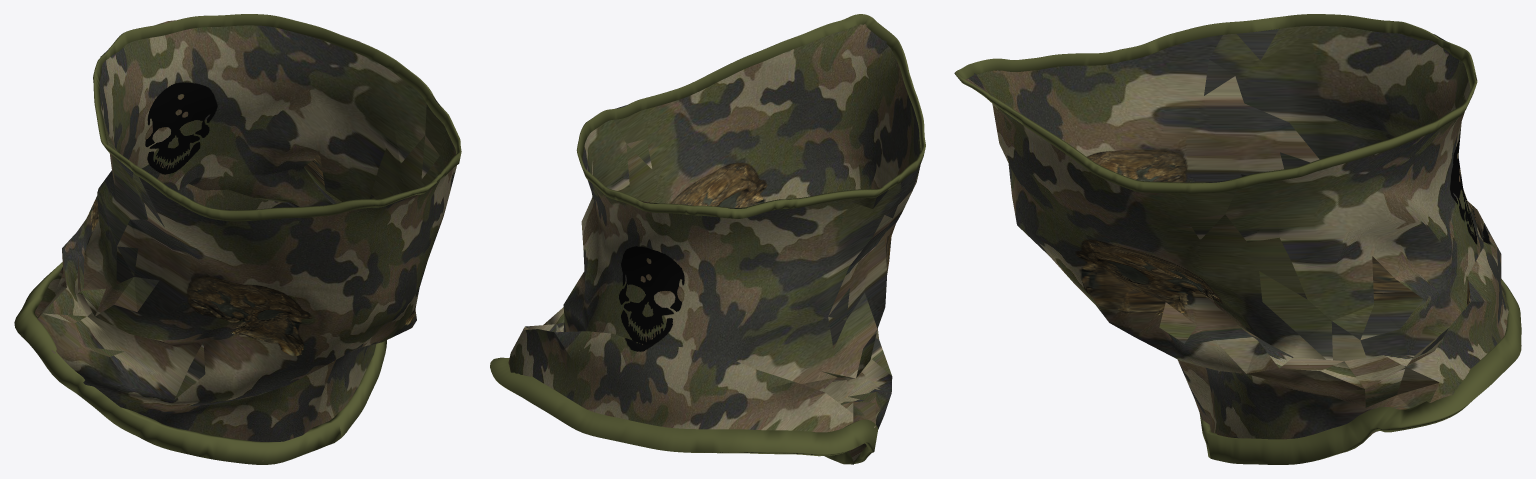
The picture shows the model from 3 angles, left to right: view 1: azimuth 30°, elevation 25°; view 2: azimuth 150°, elevation 25°; view 3: azimuth 270°, elevation 25°; orthographic projection. The views are drawn at different scales.
Visible parts, largest first — view 1: 3DSMeshMatrix (×3); view 2: 3DSMeshMatrix (×3); view 3: 3DSMeshMatrix (×3).
Boxes of the visible parts, x1,y1,x2,y2 form: 3DSMeshMatrix (×3): (14, 14, 461, 464); 3DSMeshMatrix (×3): (490, 14, 925, 464); 3DSMeshMatrix (×3): (954, 14, 1521, 464).
Size of the model in its own units: 188 by 171 by 234.
2 materials, 1 textured.
